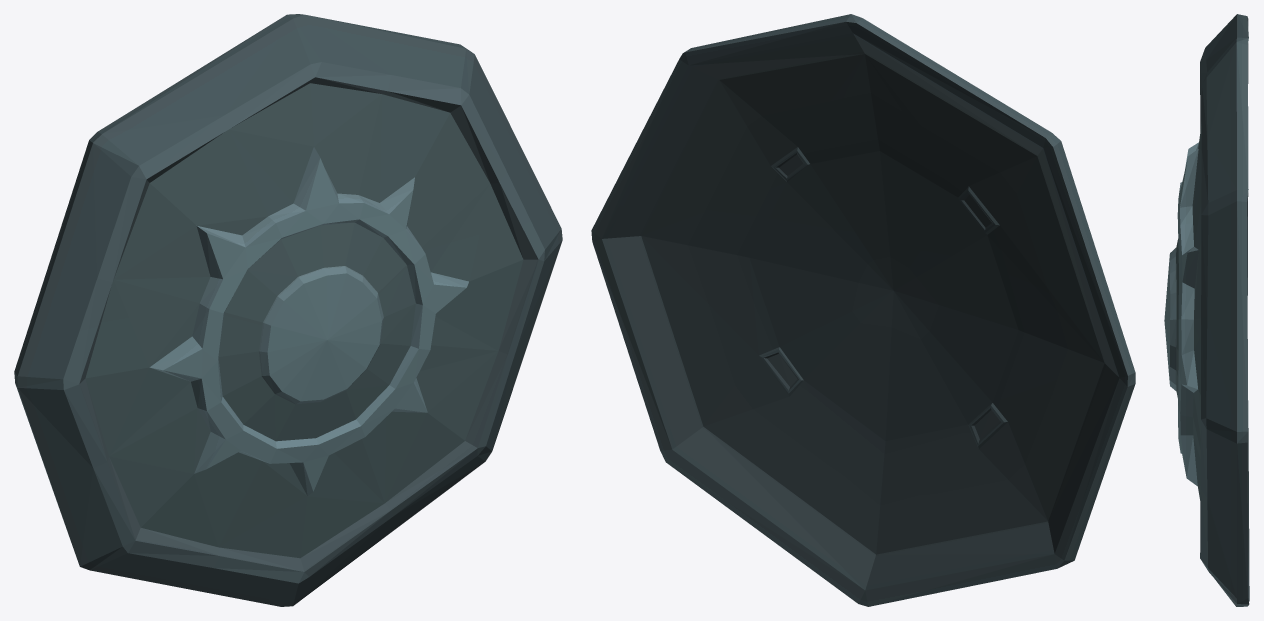
File: CharSkyKid_Prop_Shield_01.glb
3 views of the same model, side by side, from view 1: azimuth 30°, elevation 25°; view 2: azimuth 150°, elevation 25°; view 3: azimuth 270°, elevation 25° (orthographic). The views are drawn at different scales.
Parts seen in each view (by area): view 1: CharSkyKid_Prop_Shield_01; view 2: CharSkyKid_Prop_Shield_01; view 3: CharSkyKid_Prop_Shield_01.
Boxes of the visible parts, x1=… form: CharSkyKid_Prop_Shield_01: x1=14, y1=14, x2=562, y2=606; CharSkyKid_Prop_Shield_01: x1=591, y1=14, x2=1135, y2=606; CharSkyKid_Prop_Shield_01: x1=1164, y1=14, x2=1249, y2=606.
Bounding box in the file's own units: 5.63 × 5.81 × 0.7855.
Materials: 1 (1 with a texture image).
